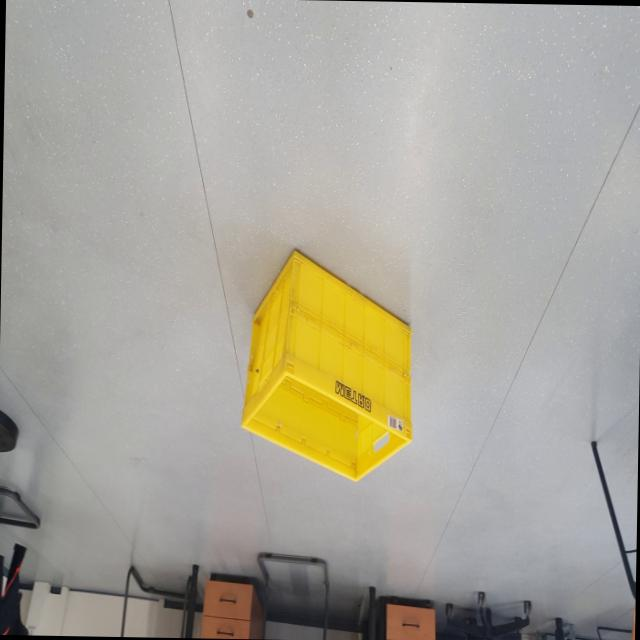box: (223, 243, 420, 484)
